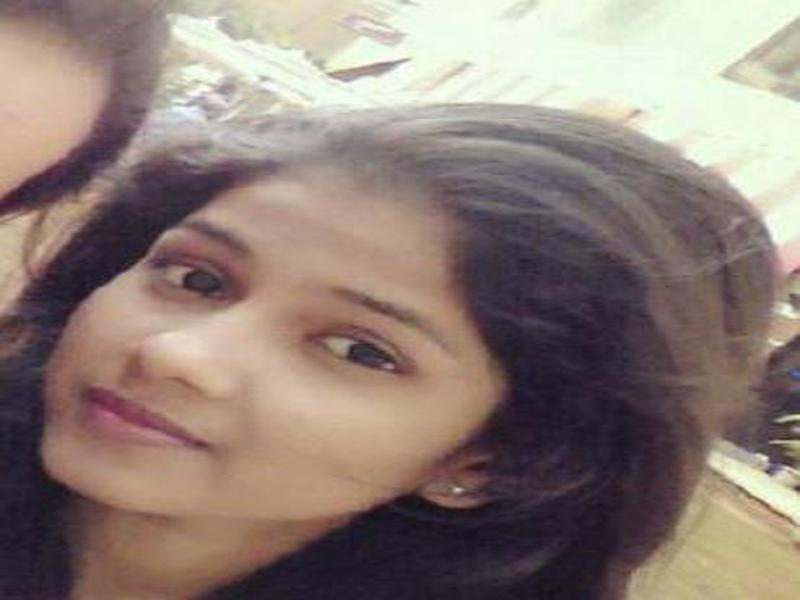without_mask: (40, 165, 502, 521)
